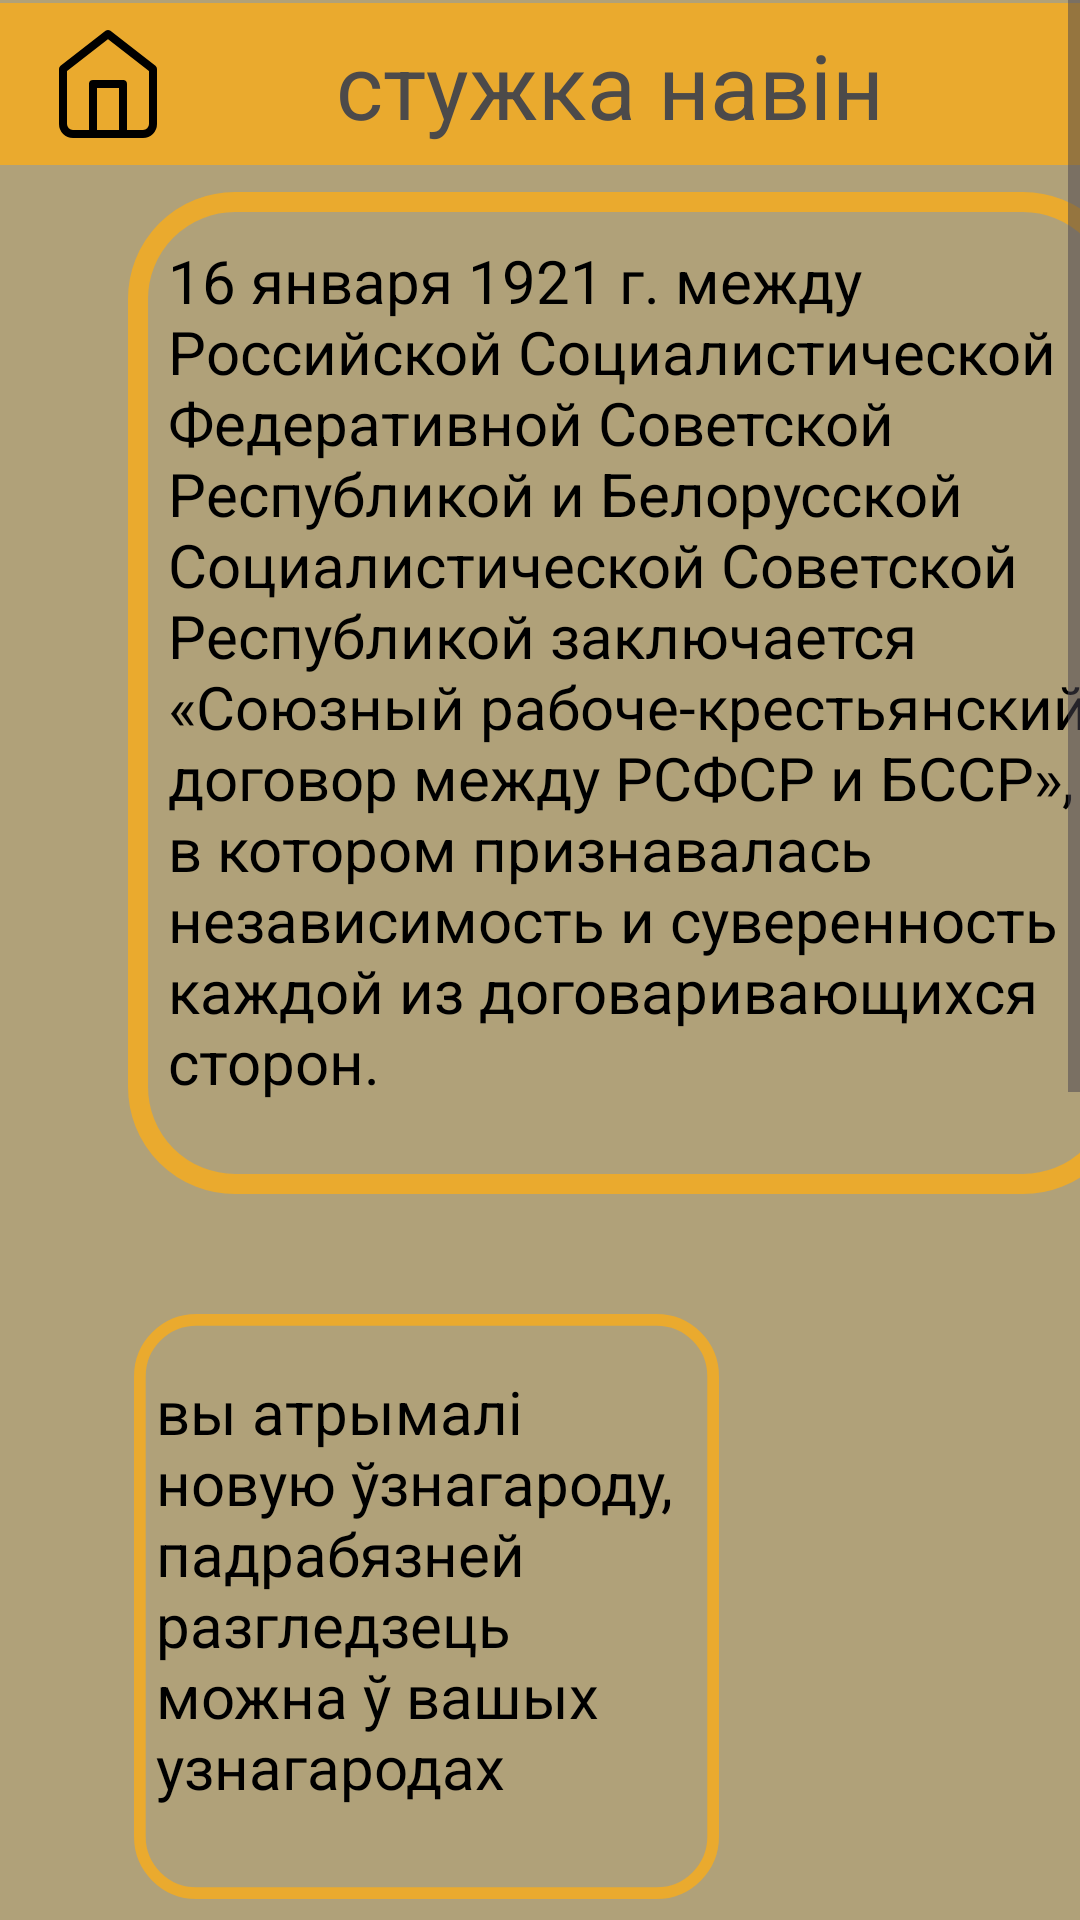

Icons on this 1080w x 1920h Android screen, each with the point to tap as [x,y]:
home: [108,84]
